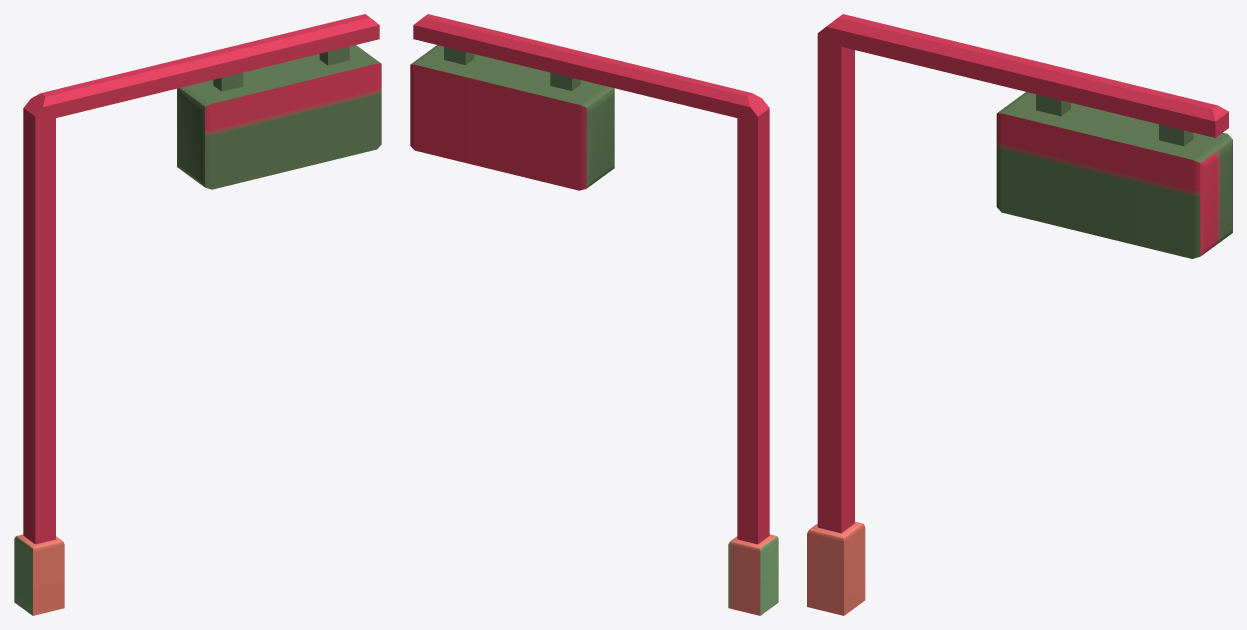
File: TrafficLight_02.fbx
3 renders of one model, left to right at view 1: azimuth 30°, elevation 25°; view 2: azimuth 150°, elevation 25°; view 3: azimuth 330°, elevation 25°, orthographic. The views are drawn at different scales.
Visible parts, largest first — view 1: polySurface976; view 2: polySurface976; view 3: polySurface976.
Part boxes in pixels (x1,y1,x2,y2): polySurface976: [14, 14, 381, 615]; polySurface976: [410, 14, 778, 615]; polySurface976: [807, 14, 1232, 615].
Bounding box in the file's own units: 2.57 × 3.57 × 0.3912.
Materials: 1 (1 with a texture image).
